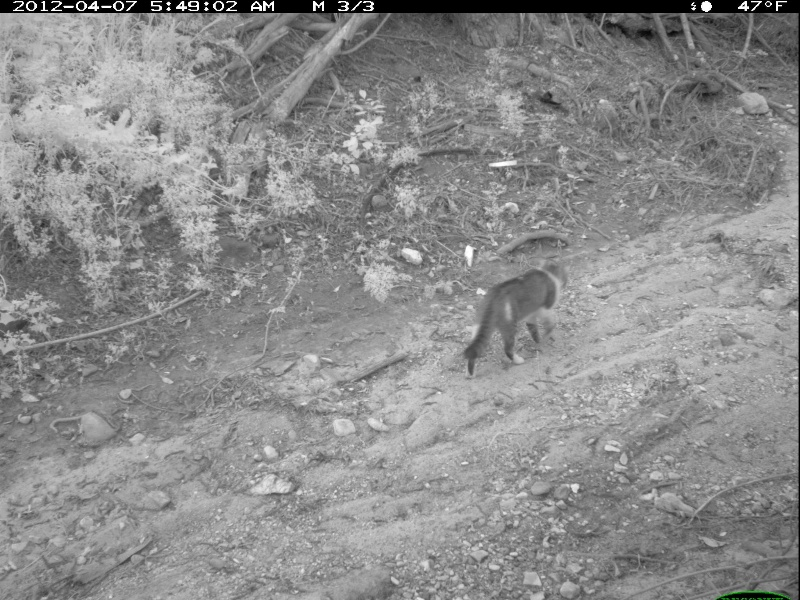cat: (460, 257, 569, 386)
